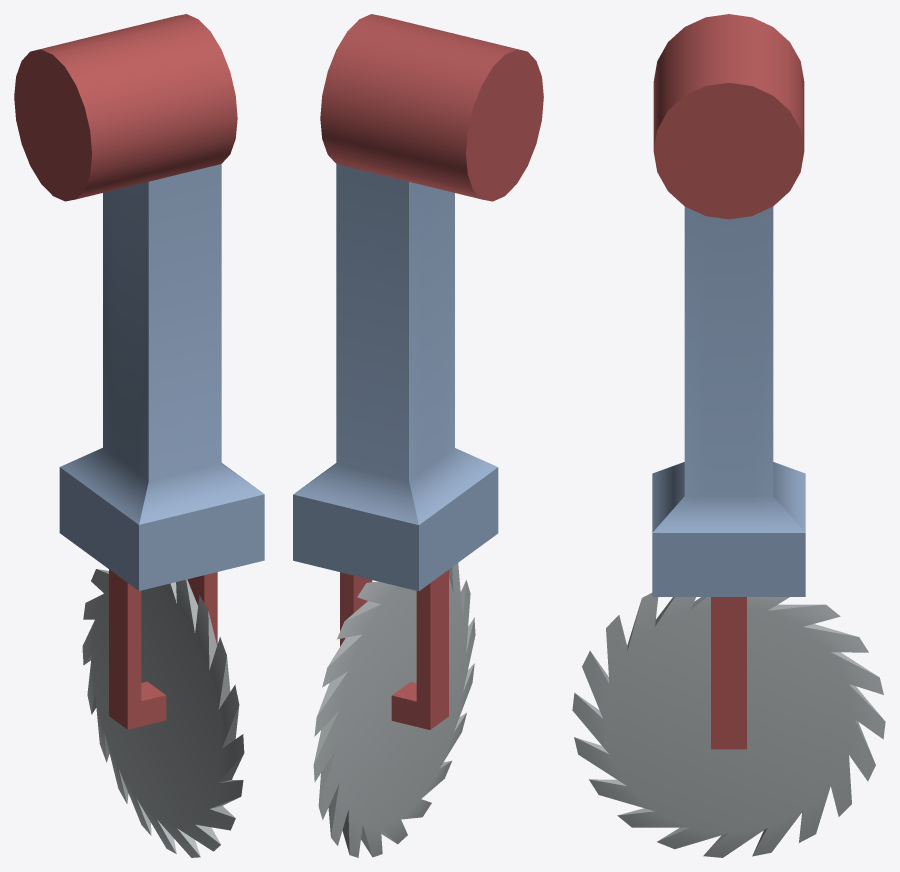
The model's file is Robot_Arm_v6_Rigged.fbx.
The picture shows the model from 3 angles, left to right: view 1: azimuth 30°, elevation 25°; view 2: azimuth 150°, elevation 25°; view 3: azimuth 270°, elevation 25°; orthographic projection. The views are drawn at different scales.
Visible parts, largest first — view 1: Arm, Blade; view 2: Arm, Blade; view 3: Arm, Blade.
Part boxes in pixels (bbox=[...]): Arm: bbox=[14, 14, 264, 729]; Blade: bbox=[82, 569, 244, 857]; Arm: bbox=[293, 14, 543, 729]; Blade: bbox=[313, 563, 475, 857]; Arm: bbox=[652, 14, 805, 749]; Blade: bbox=[572, 593, 885, 857].
Bounding box in the file's own units: 112 × 509 × 183.
